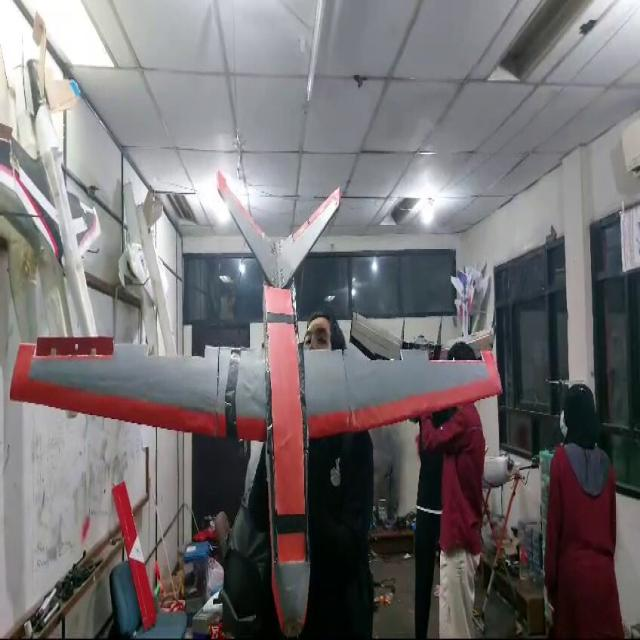plane: (9, 169, 503, 637)
